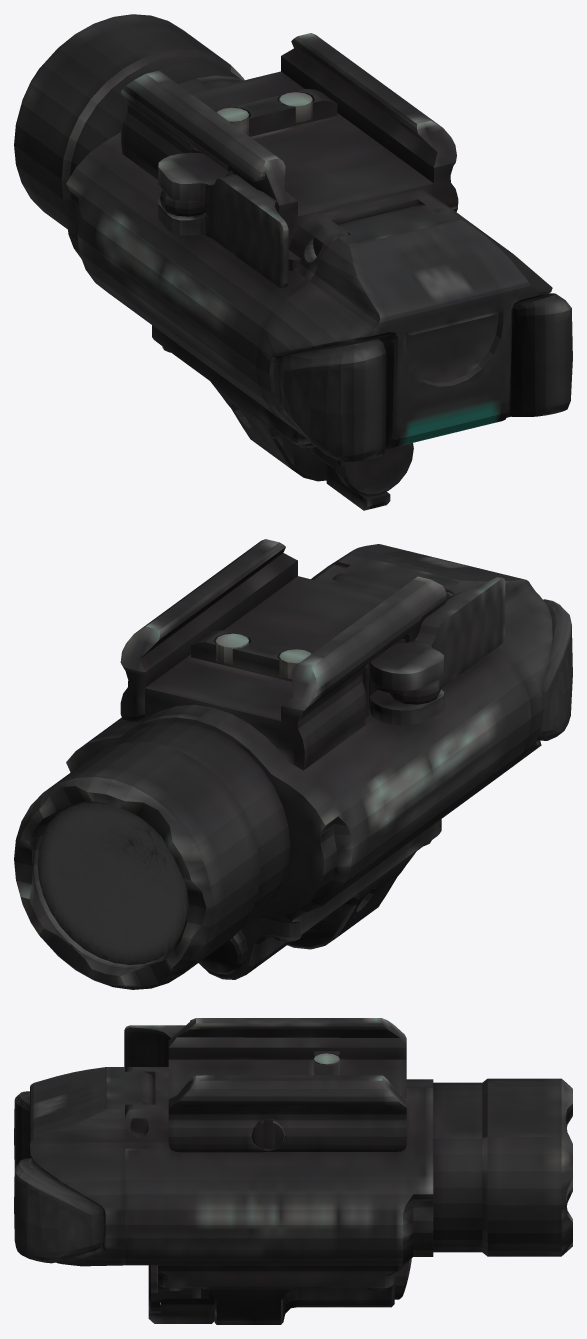
The picture shows the model from 3 angles, top to bottom: view 1: azimuth 30°, elevation 25°; view 2: azimuth 150°, elevation 25°; view 3: azimuth 270°, elevation 25°; orthographic projection. The views are drawn at different scales.
Visible parts, largest first — view 1: TW_6272370ee4013c5d7e31f418_PZ_Import; view 2: TW_6272370ee4013c5d7e31f418_PZ_Import; view 3: TW_6272370ee4013c5d7e31f418_PZ_Import.
Part boxes in pixels (x1,y1,x2,y2): TW_6272370ee4013c5d7e31f418_PZ_Import: (14, 14, 572, 510); TW_6272370ee4013c5d7e31f418_PZ_Import: (14, 539, 572, 989); TW_6272370ee4013c5d7e31f418_PZ_Import: (14, 1018, 572, 1324).
Bounding box in the file's own units: 0.0219 × 0.0494 × 0.0264.
1 material, 1 textured.
